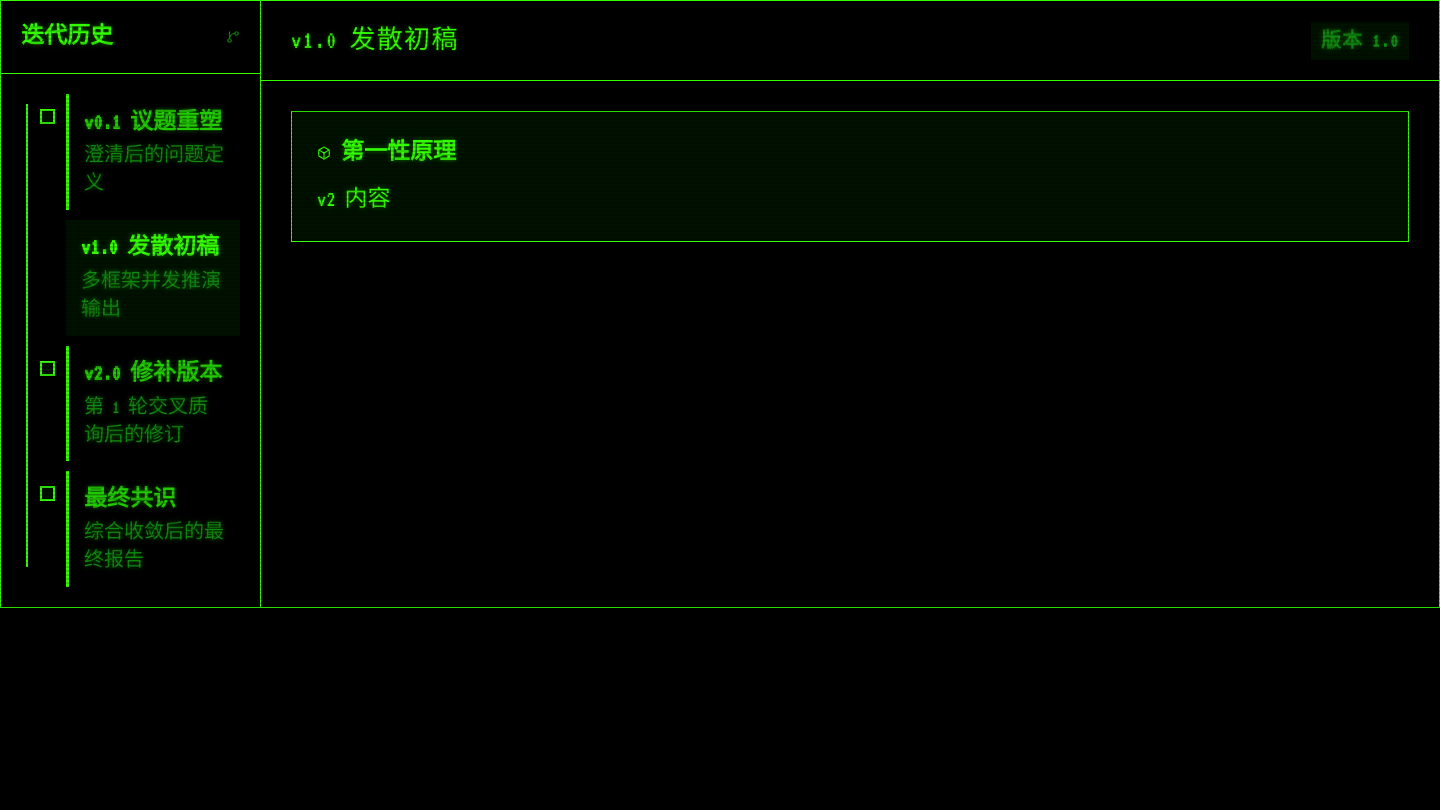
IterationView › 点击最终共识后会显示共识内容
This screenshot has width=1440, height=810.
Click the text "最终共识" at (130, 499), box [84, 488, 176, 511]
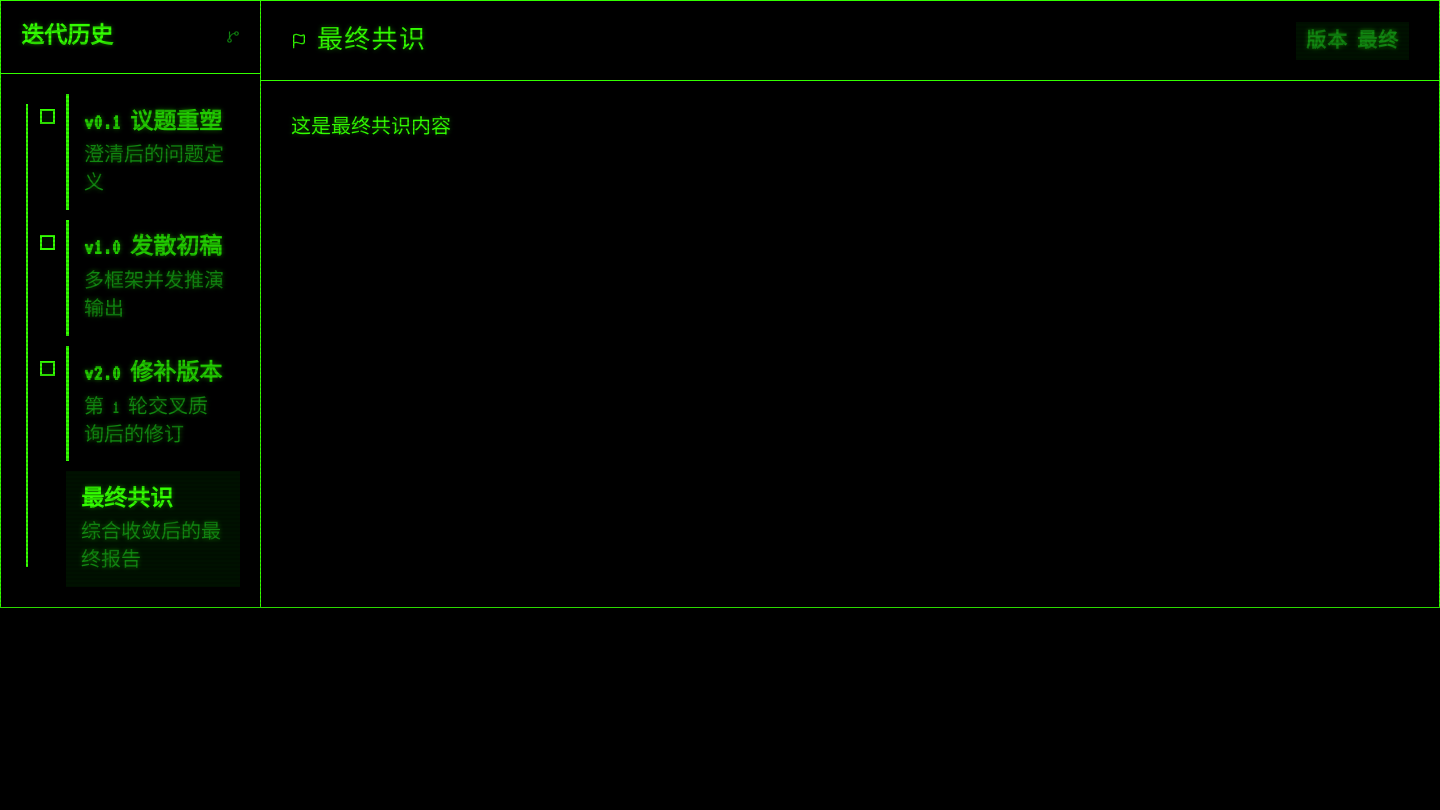
Expected: the text "这是最终共识内容" is shown, [291, 117, 451, 137]
